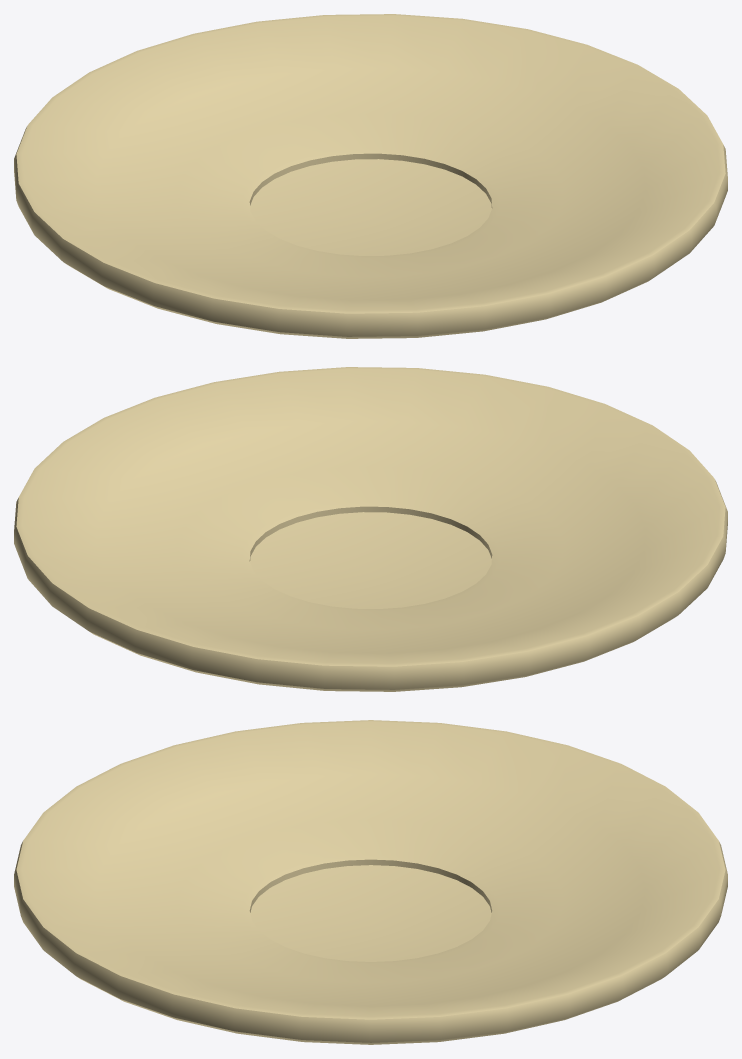
The model's file is Saucer.glb.
3 views of the same model, one above another, from view 1: azimuth 30°, elevation 25°; view 2: azimuth 150°, elevation 25°; view 3: azimuth 270°, elevation 25° (orthographic).
Visible parts, largest first — view 1: Saucer; view 2: Saucer; view 3: Saucer.
Boxes of the visible parts, bbox=[...] form: Saucer: bbox=[14, 14, 727, 338]; Saucer: bbox=[14, 367, 727, 691]; Saucer: bbox=[14, 720, 727, 1044].
Size of the model in its own units: 0.1238 by 0.0179 by 0.1238.
